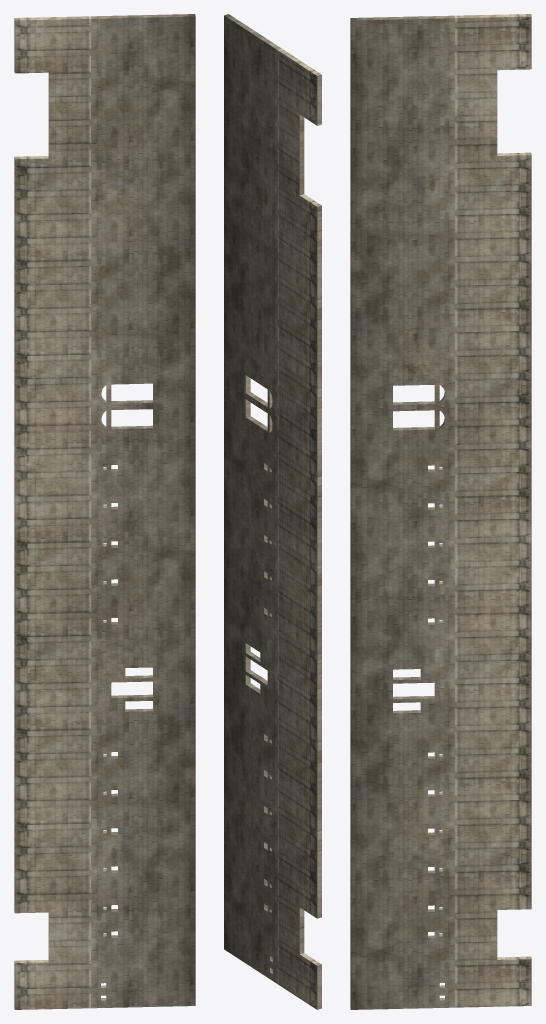
The model's file is walls_and_columns_9.fbx.
The picture shows the model from 3 angles, left to right: view 1: azimuth 90°, elevation 25°; view 2: azimuth 210°, elevation 25°; view 3: azimuth 270°, elevation 25°; orthographic projection. The views are drawn at different scales.
Visible parts, largest first — view 1: walls_and_columns_9; view 2: walls_and_columns_9; view 3: walls_and_columns_9.
Boxes of the visible parts, x1,y1,x2,y2 form: walls_and_columns_9: [14, 14, 195, 1009]; walls_and_columns_9: [224, 14, 321, 1009]; walls_and_columns_9: [350, 14, 531, 1009].
Bounding box in the file's own units: 77.06 × 5423 × 900.
